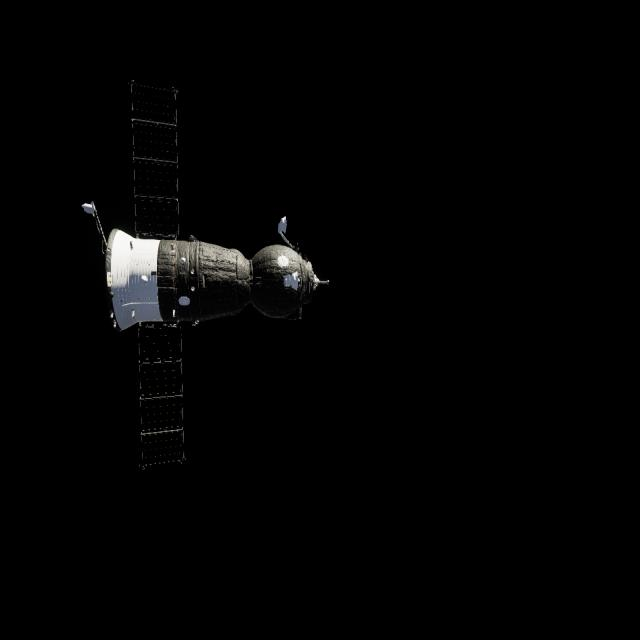Satellites revolving around earth: (80, 198, 330, 334)
